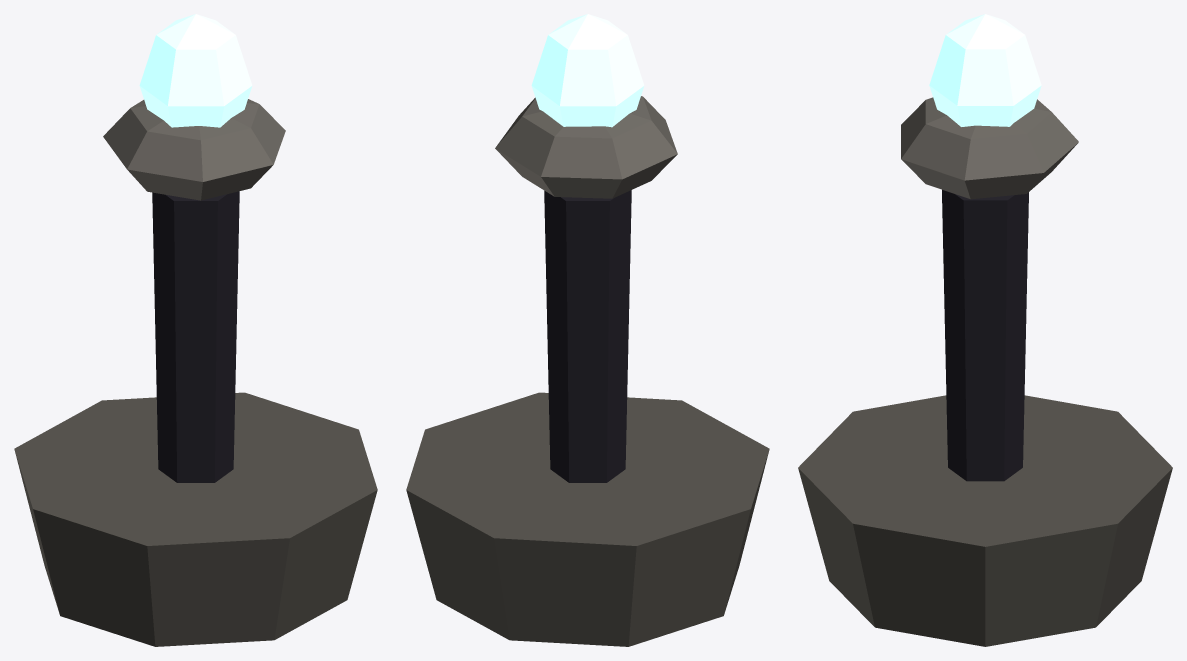
Rendered from s2_nabulbul.glb.
The picture shows the model from 3 angles, left to right: view 1: azimuth 30°, elevation 25°; view 2: azimuth 150°, elevation 25°; view 3: azimuth 270°, elevation 25°; orthographic projection.
Visible parts, largest first — view 1: s2_nabulbul; view 2: s2_nabulbul; view 3: s2_nabulbul.
Part boxes in pixels (bbox=[...]): s2_nabulbul: bbox=[14, 14, 377, 646]; s2_nabulbul: bbox=[406, 14, 769, 646]; s2_nabulbul: bbox=[798, 14, 1172, 646].
Bounding box in the file's own units: 1.2 × 2 × 1.2.
